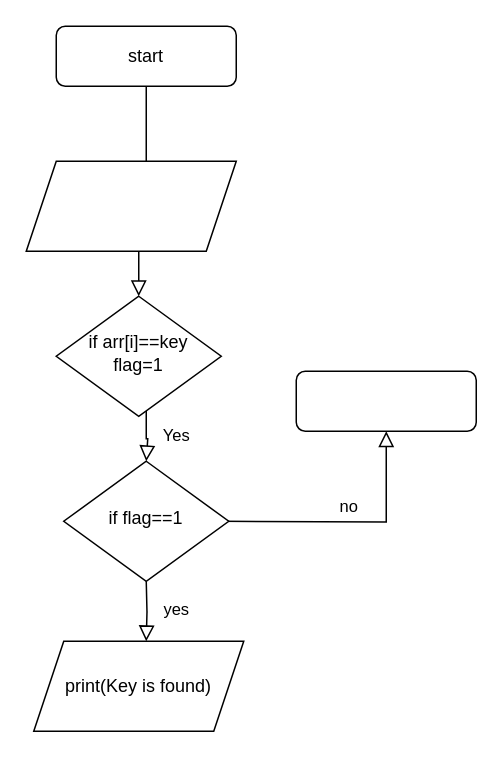
This 503x758 diagram has some shape labels left out. The shapes that lost their labels are listed below. From the top down, each one's box as (x1, y1, x2, y2) in pixels, then its label:
(25, 160, 236, 251): int arr[],n,key,flag=0
(295, 370, 476, 431): printf("not found)"
